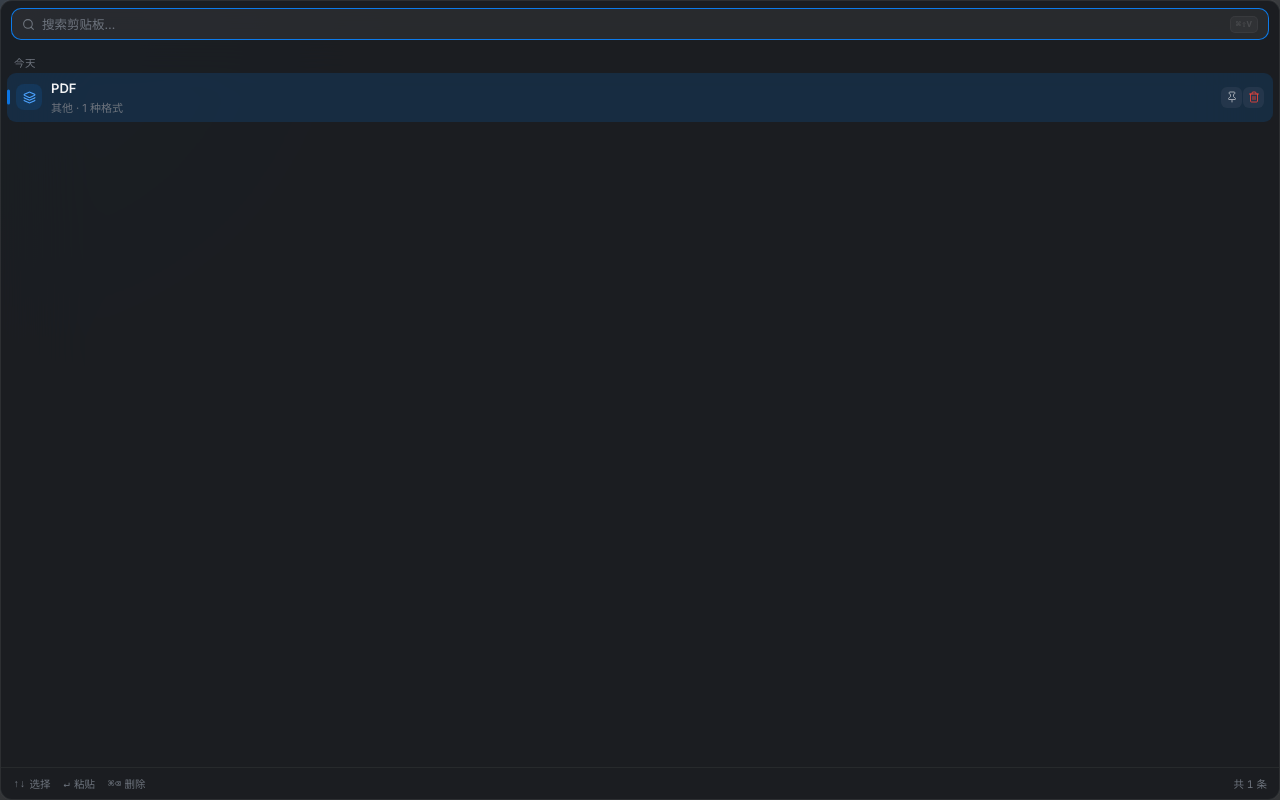
Test case: PopupApp › 时间分组与行操作 › other 类型固定走复制通道：不调 paste，行内提示后才关闭
Click the text "PDF" at (64, 89), box [51,80,76,98]
Wait 1600 ms
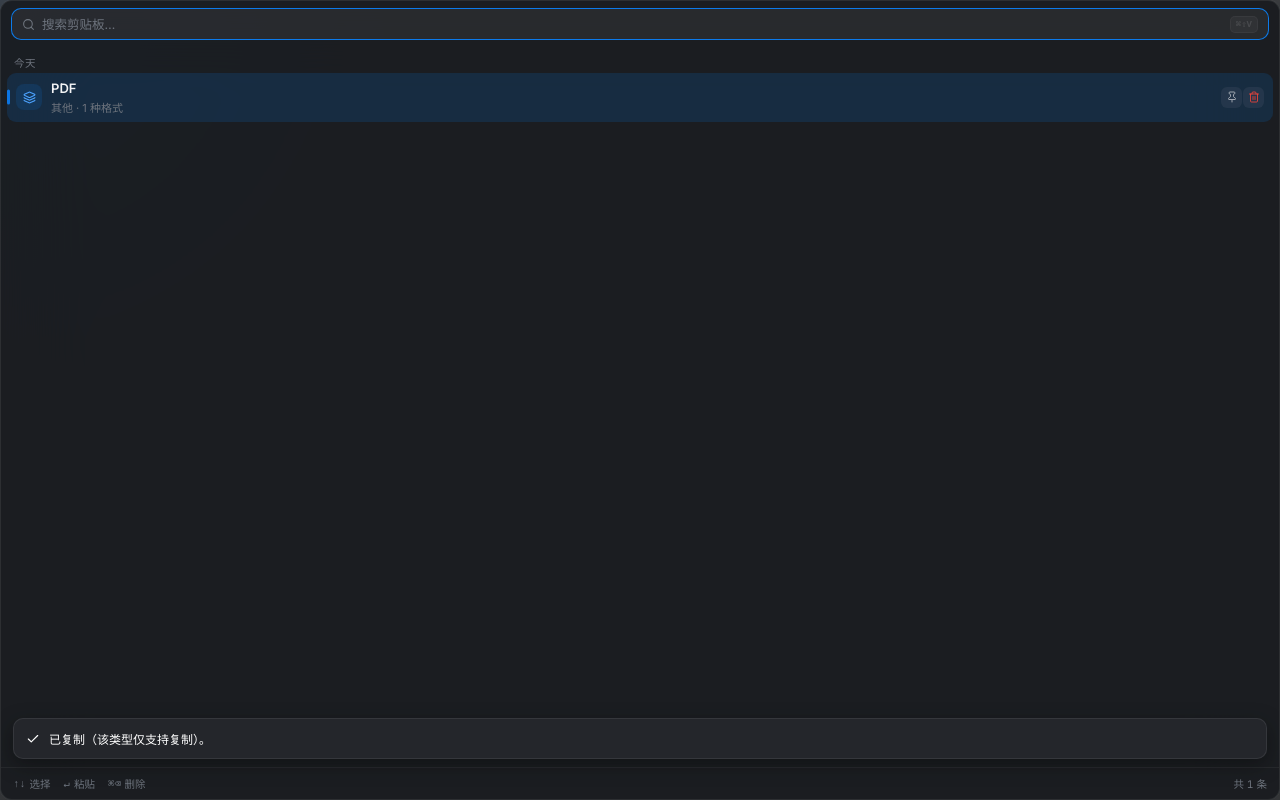
Check: the text "已复制（该类型仅支持复制）。" is shown, box [49,732,211,747]
